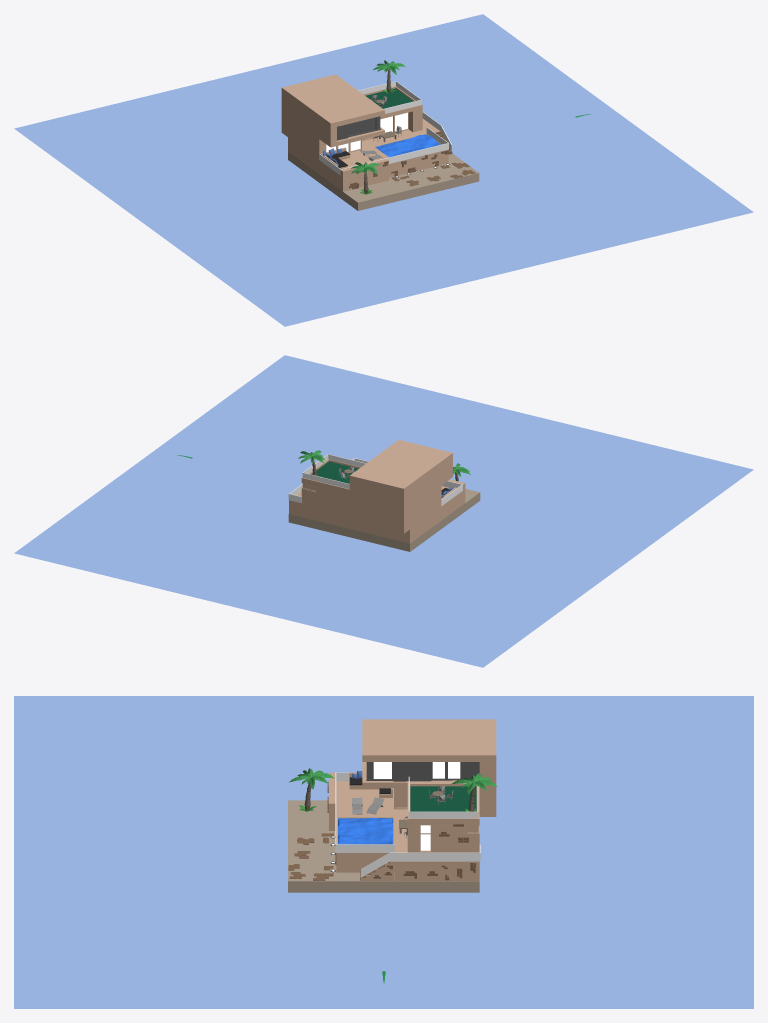
Rendered from residence_18th_August_2020.glb.
3 renders of one model, top to bottom at view 1: azimuth 30°, elevation 25°; view 2: azimuth 150°, elevation 25°; view 3: azimuth 270°, elevation 25°, orthographic. The views are drawn at different scales.
Visible parts, largest first — view 1: Plane.005, Plane.003, Plane, Plane.001, Plane.011, Plane.007, Plane.009, Plane.004, Plane.006; view 2: Plane.005, Plane.003, Plane.001, Plane.011, Plane, Plane.006; view 3: Plane.005, Plane.003, Plane, Plane.001, Plane.011, Plane.004, Plane.007, Plane.009, Plane.008, Plane.006.
Part boxes in pixels (x1=…): Plane.005: x1=14, y1=14, x2=753, y2=326; Plane.003: x1=281, y1=74, x2=422, y2=159; Plane: x1=288, y1=152, x2=479, y2=210; Plane.001: x1=288, y1=118, x2=448, y2=191; Plane.011: x1=286, y1=76, x2=380, y2=121; Plane.007: x1=319, y1=112, x2=452, y2=175; Plane.009: x1=375, y1=134, x2=440, y2=157; Plane.004: x1=337, y1=116, x2=380, y2=140; Plane.006: x1=358, y1=81, x2=421, y2=113; Plane.005: x1=14, y1=355, x2=753, y2=667; Plane.003: x1=301, y1=440, x2=452, y2=533; Plane.001: x1=289, y1=479, x2=465, y2=543; Plane.011: x1=354, y1=441, x2=448, y2=486; Plane: x1=288, y1=489, x2=480, y2=551; Plane.006: x1=302, y1=454, x2=365, y2=488; Plane.005: x1=14, y1=696, x2=753, y2=1008; Plane.003: x1=362, y1=719, x2=496, y2=852; Plane: x1=288, y1=800, x2=479, y2=892; Plane.001: x1=329, y1=772, x2=479, y2=880; Plane.011: x1=366, y1=721, x2=492, y2=753; Plane.004: x1=366, y1=762, x2=479, y2=781; Plane.007: x1=335, y1=772, x2=480, y2=877; Plane.009: x1=338, y1=817, x2=393, y2=844; Plane.008: x1=410, y1=786, x2=476, y2=811; Plane.006: x1=408, y1=776, x2=478, y2=818.
Bounding box in the file's own units: 37.32 × 5.51 × 37.32.
